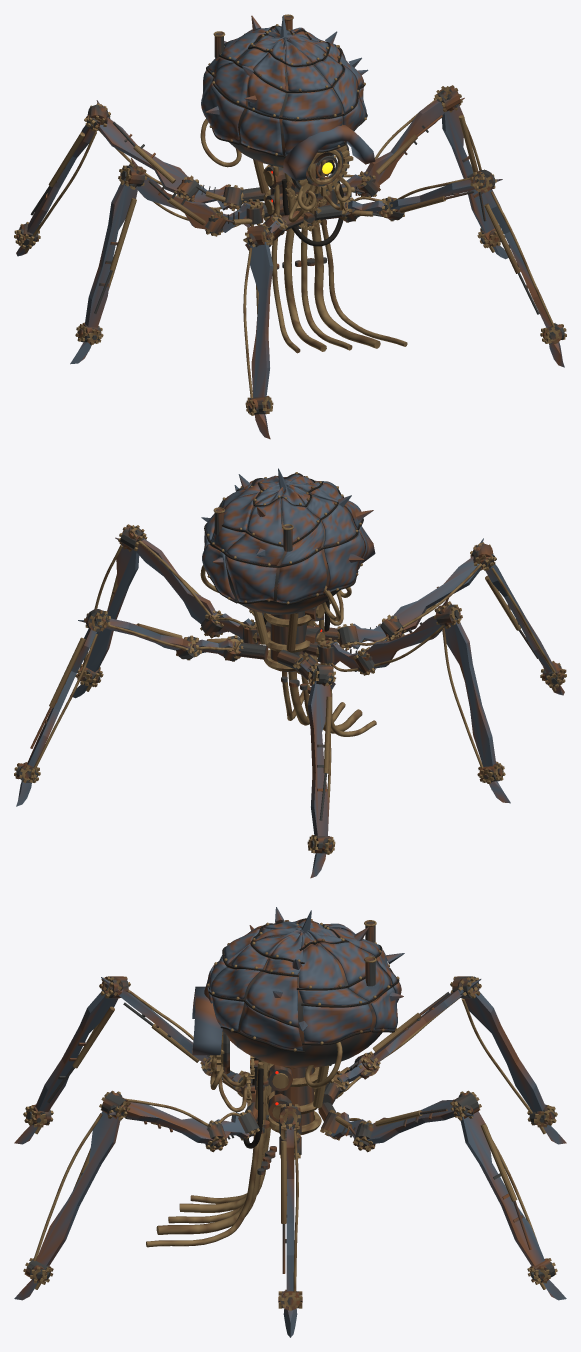
The model's file is spider.glb.
3 views of the same model, one above another, from view 1: azimuth 30°, elevation 25°; view 2: azimuth 150°, elevation 25°; view 3: azimuth 270°, elevation 25° (orthographic). The views are drawn at different scales.
Visible parts, largest first — view 1: Body, Leg_L0_Lower, Leg_L1_Lower, Leg_R1_Lower, Leg_R0_Lower, Leg_L2_Lower, Leg_R1_Upper, Leg_L2_Upper, Head, Leg_L1_Upper, Leg_R0_Upper, Strand_3 (+8 smaller); view 2: Body, Leg_L2_Lower, Leg_L1_Lower, Leg_R2_Lower, Leg_R1_Lower, Leg_L0_Upper, Leg_L0_Lower, Leg_R1_Upper, Leg_L1_Upper, Leg_R2_Upper, Leg_L1_Coxa, Leg_L0_Coxa (+3 smaller); view 3: Body, Leg_R2_Lower, Leg_R0_Lower, Leg_L0_Lower, Leg_L2_Lower, Leg_R1_Lower, Leg_R0_Upper, Leg_R2_Upper, Leg_L2_Upper, Leg_L0_Upper, Strand_3, Strand_4 (+6 smaller).
Boxes of the visible parts, <box> form: Body: <box>200,14,375,246</box>; Leg_L0_Lower: <box>243,226,273,414</box>; Leg_L1_Lower: <box>75,165,147,342</box>; Leg_R1_Lower: <box>433,85,505,248</box>; Leg_R0_Lower: <box>472,169,562,343</box>; Leg_L2_Lower: <box>18,103,108,248</box>; Leg_R1_Upper: <box>357,86,464,196</box>; Leg_L2_Upper: <box>84,100,202,201</box>; Head: <box>288,143,353,222</box>; Leg_L1_Upper: <box>119,157,227,236</box>; Leg_R0_Upper: <box>379,171,502,220</box>; Strand_3: <box>307,163,380,348</box>; Body: <box>200,468,375,673</box>; Leg_L2_Lower: <box>307,665,335,853</box>; Leg_L1_Lower: <box>433,604,505,781</box>; Leg_R2_Lower: <box>18,608,108,783</box>; Leg_R1_Lower: <box>75,524,147,687</box>; Leg_L0_Upper: <box>378,538,496,640</box>; Leg_L0_Lower: <box>472,542,562,687</box>; Leg_R1_Upper: <box>115,525,223,638</box>; Leg_L1_Upper: <box>353,597,461,675</box>; Leg_R2_Upper: <box>78,610,201,659</box>; Leg_L1_Coxa: <box>317,638,375,674</box>; Leg_L0_Coxa: <box>337,616,402,650</box>; Body: <box>192,907,404,1148</box>; Leg_R2_Lower: <box>450,1092,557,1284</box>; Leg_R0_Lower: <box>23,1092,130,1284</box>; Leg_L0_Lower: <box>23,976,130,1125</box>; Leg_L2_Lower: <box>450,976,557,1125</box>; Leg_R1_Lower: <box>279,1107,301,1310</box>; Leg_R0_Upper: <box>104,1090,227,1152</box>; Leg_R2_Upper: <box>353,1090,476,1152</box>; Leg_L2_Upper: <box>354,977,481,1076</box>; Leg_L0_Upper: <box>101,977,217,1076</box>; Strand_3: <box>156,1060,269,1234</box>; Strand_4: <box>146,1062,264,1247</box>.
Bounding box in the file's own units: 4.5 × 2.84 × 4.5.
